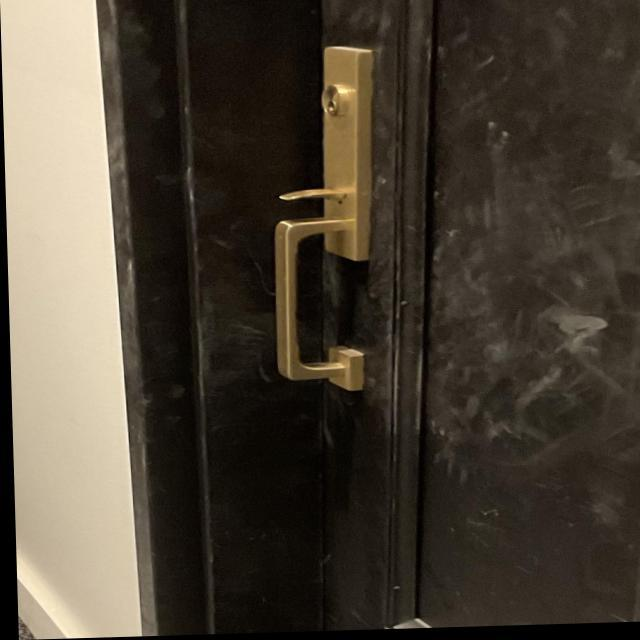door_handle: (242, 210, 407, 401)
